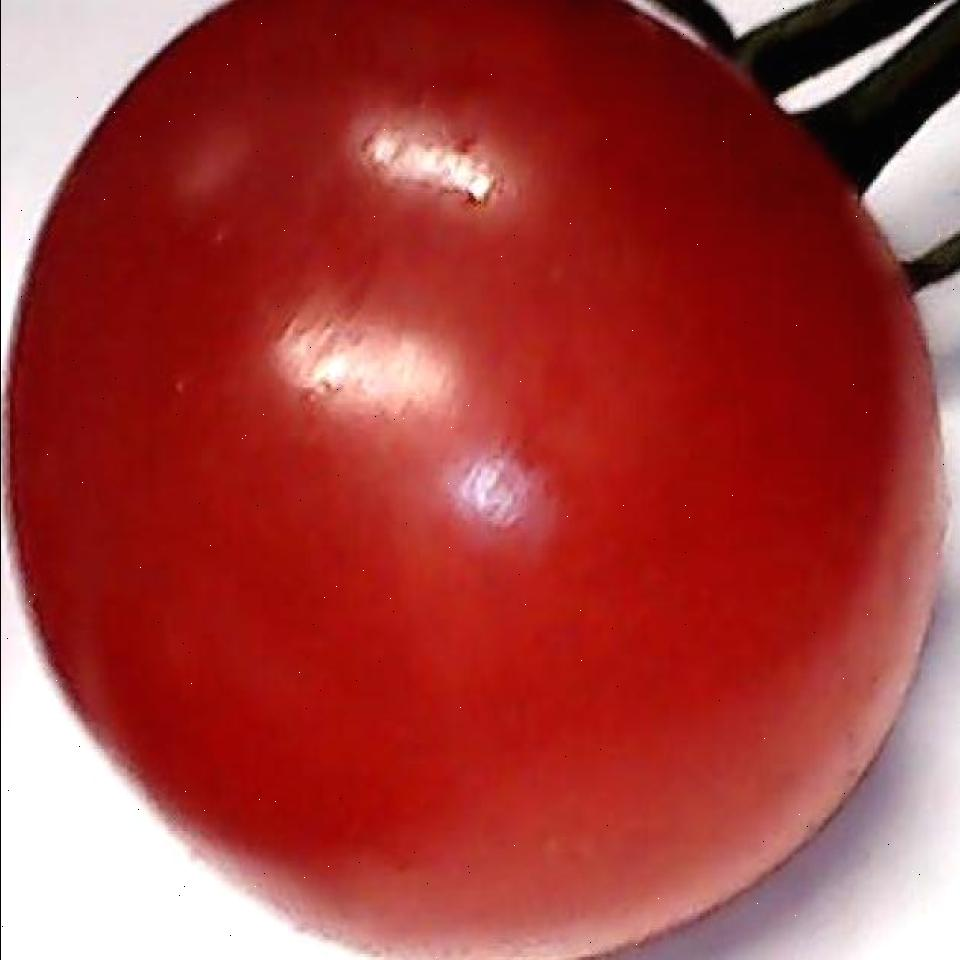Healthy: (0, 1, 946, 960)
